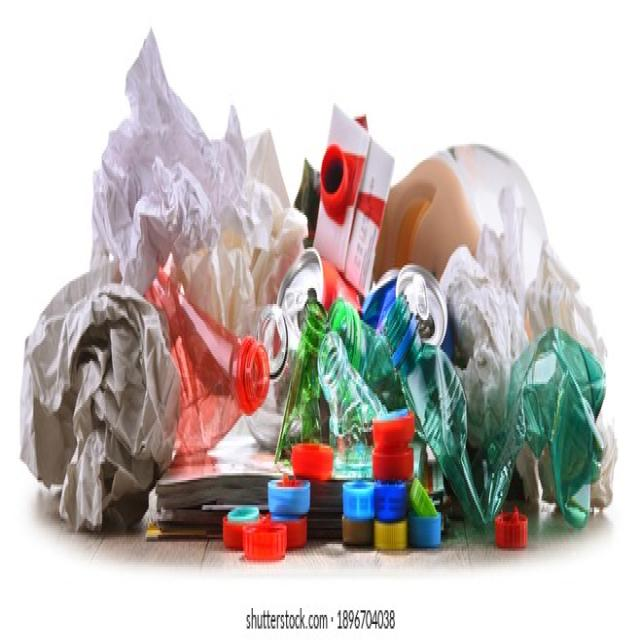paper: (44, 304, 156, 526), (113, 98, 222, 247), (464, 297, 510, 414)
plastic: (310, 320, 380, 441), (524, 341, 586, 468)
